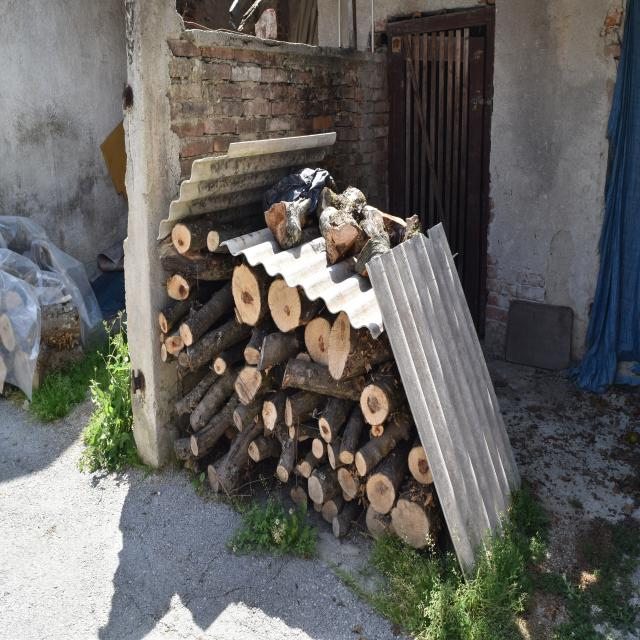entulho: (364, 218, 529, 582), (0, 203, 106, 398), (168, 133, 339, 220)
restos de madeira: (290, 318, 429, 540), (157, 270, 294, 490), (323, 196, 425, 272)
